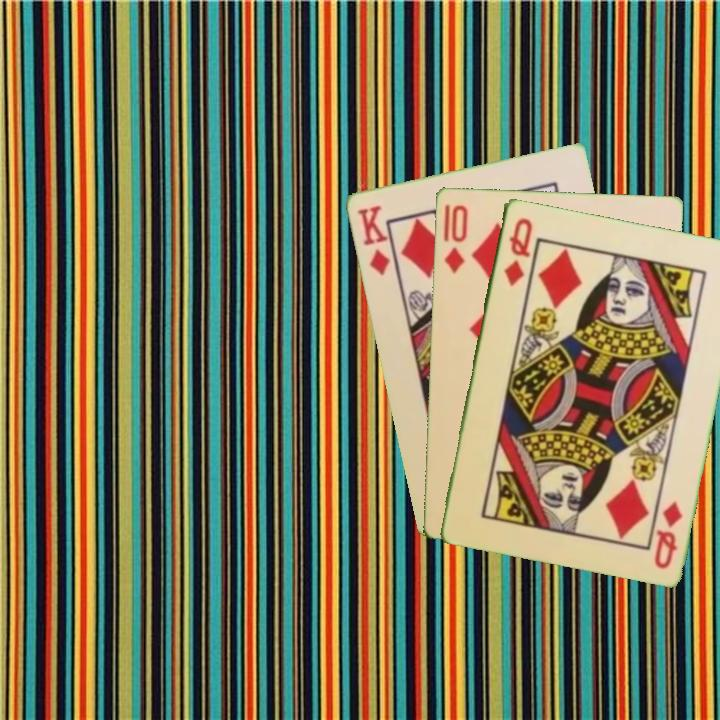10d: (440, 200, 471, 276)
Kd: (353, 201, 392, 278)
Qd: (499, 213, 535, 289), (650, 496, 685, 571)
